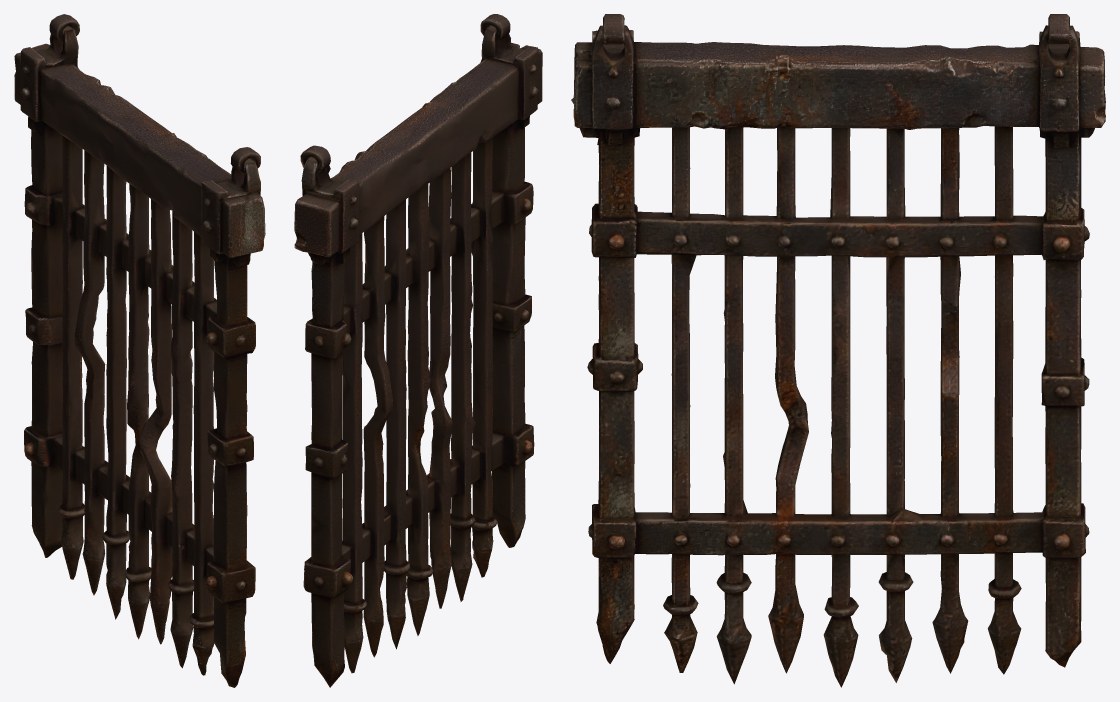
Rendered from rusted-portcullis.glb.
The picture shows the model from 3 angles, left to right: view 1: azimuth 30°, elevation 25°; view 2: azimuth 150°, elevation 25°; view 3: azimuth 270°, elevation 25°; orthographic projection. The views are drawn at different scales.
Visible parts, largest first — view 1: tripo_node_fbc4588b-3c4b-419a-ab7c-4bb49637510a; view 2: tripo_node_fbc4588b-3c4b-419a-ab7c-4bb49637510a; view 3: tripo_node_fbc4588b-3c4b-419a-ab7c-4bb49637510a.
Part boxes in pixels (x1,y1,x2,y2): tripo_node_fbc4588b-3c4b-419a-ab7c-4bb49637510a: (14, 14, 265, 687); tripo_node_fbc4588b-3c4b-419a-ab7c-4bb49637510a: (294, 14, 542, 687); tripo_node_fbc4588b-3c4b-419a-ab7c-4bb49637510a: (571, 14, 1105, 687).
Bounding box in the file's own units: 0.1036 × 1 × 0.7124.
Materials: 1 (1 with a texture image).
